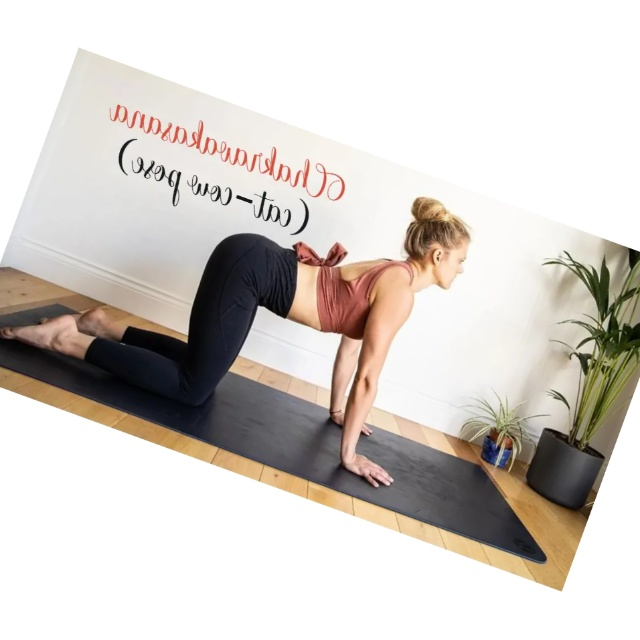Cow_Pose: (4, 198, 472, 489)
